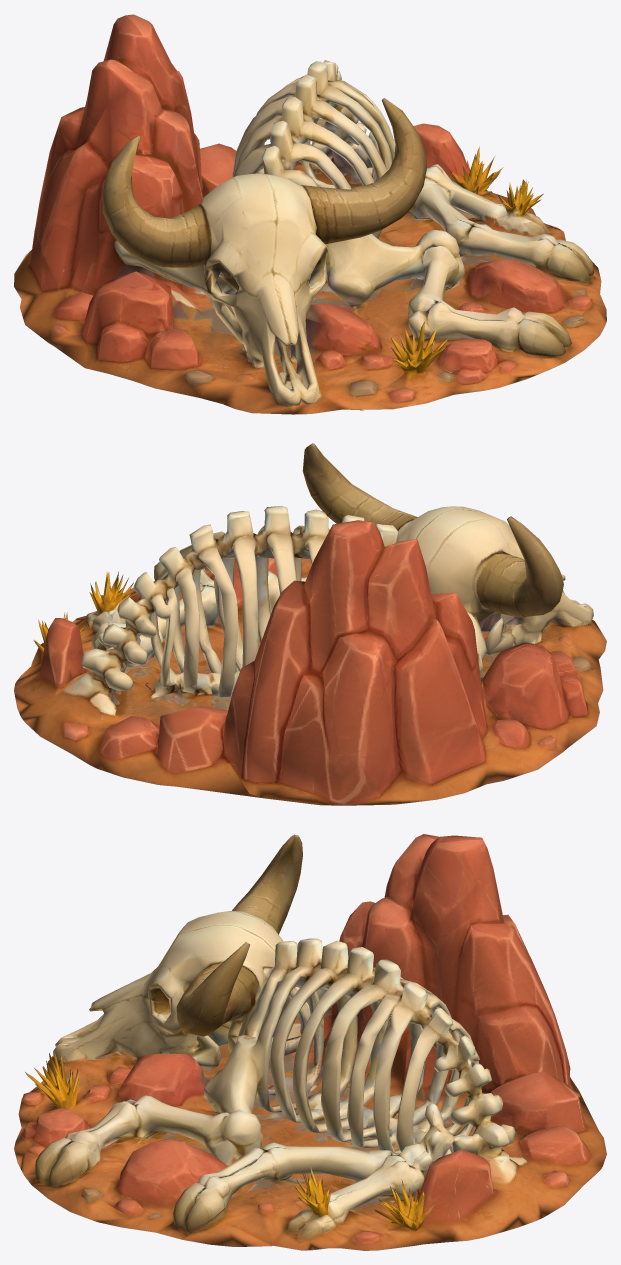
File: Meshy_AI_Desert_Horned_Skeleto_0512182544_texture.fbx
3 views of the same model, one above another, from view 1: azimuth 30°, elevation 25°; view 2: azimuth 150°, elevation 25°; view 3: azimuth 270°, elevation 25° (orthographic).
Visible parts, largest first — view 1: Mesh_0; view 2: Mesh_0; view 3: Mesh_0.
Boxes of the visible parts, <box> form: Mesh_0: <box>14,14,606,414</box>; Mesh_0: <box>14,443,606,805</box>; Mesh_0: <box>14,834,606,1250</box>.
Size of the model in its own units: 187 by 85.66 by 191.
Materials: 1 (1 with a texture image).
